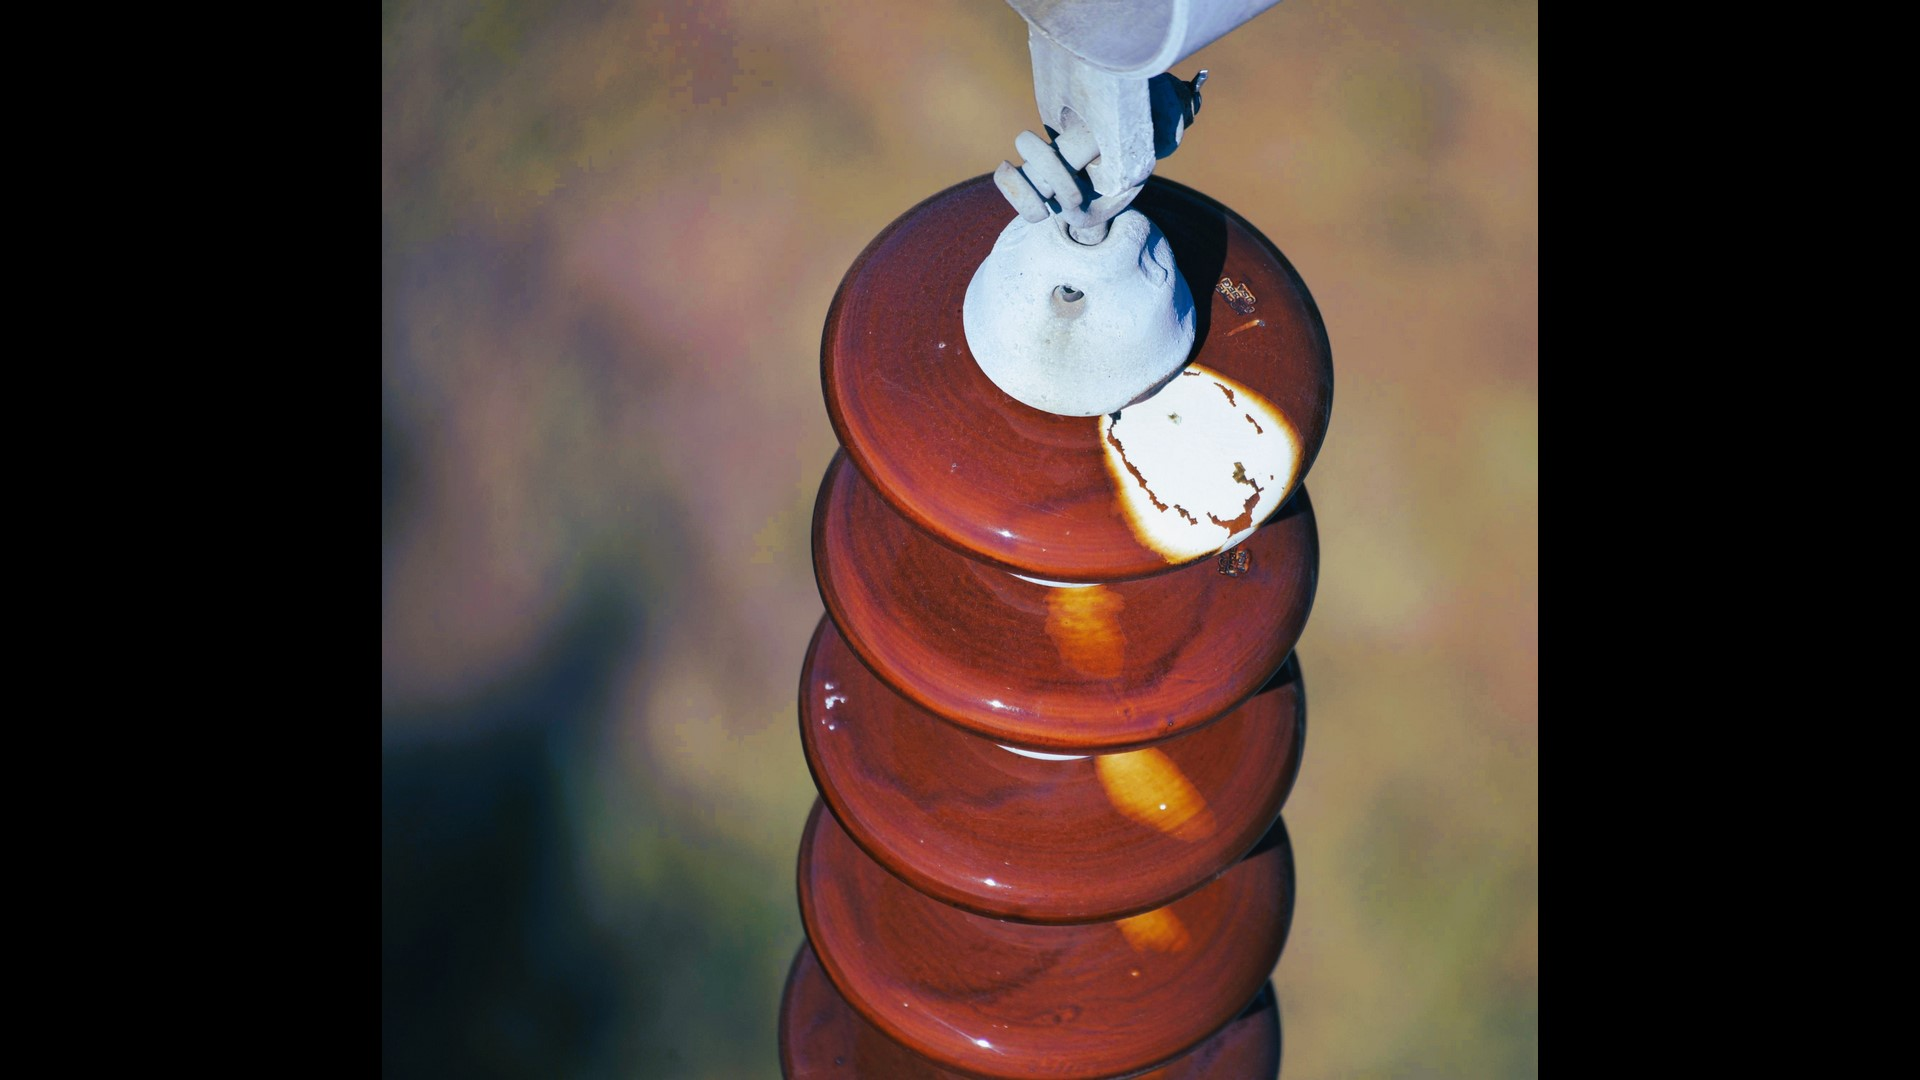Insulator flashover: (794, 169, 1360, 589)
